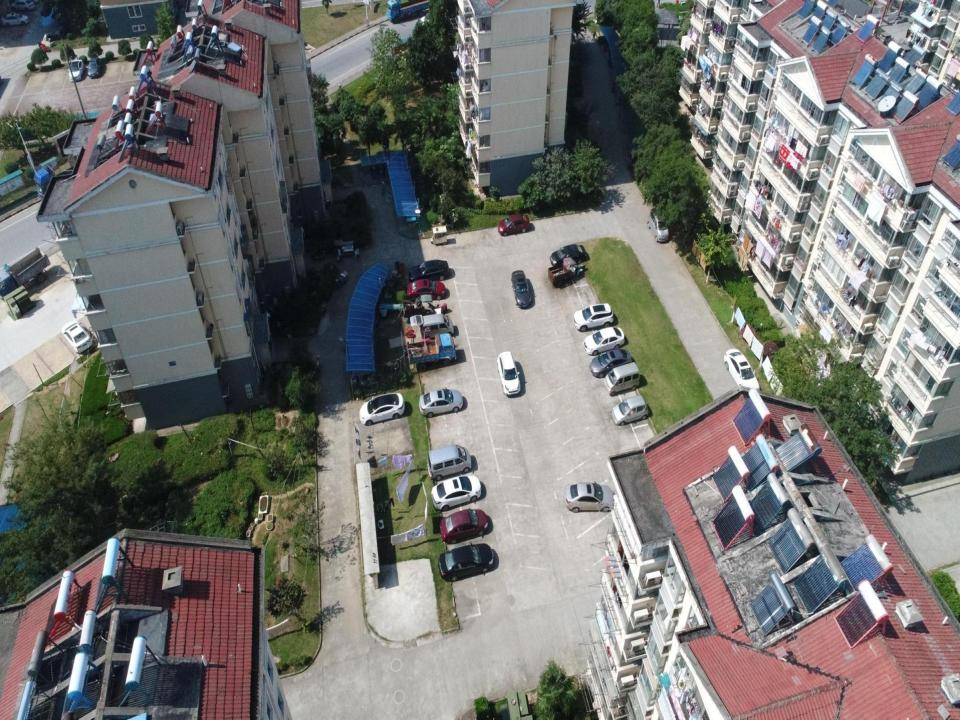car: (438, 545, 494, 582), (724, 348, 761, 397), (562, 481, 614, 513), (442, 509, 489, 544), (433, 476, 481, 510), (359, 393, 405, 425), (583, 323, 625, 354), (591, 349, 632, 378), (420, 389, 462, 417), (573, 302, 614, 330), (497, 352, 521, 397), (613, 395, 648, 425), (548, 243, 587, 265), (510, 271, 532, 309), (496, 213, 531, 236), (405, 279, 443, 300), (407, 260, 449, 279), (68, 59, 84, 81), (1, 12, 29, 24), (11, 0, 35, 12), (88, 57, 101, 79)
truck: (0, 248, 46, 298), (34, 158, 87, 198), (386, 0, 433, 22), (61, 321, 92, 354)
van: (404, 334, 458, 370), (428, 445, 472, 480), (605, 362, 639, 396), (418, 314, 454, 336), (648, 209, 669, 243)
